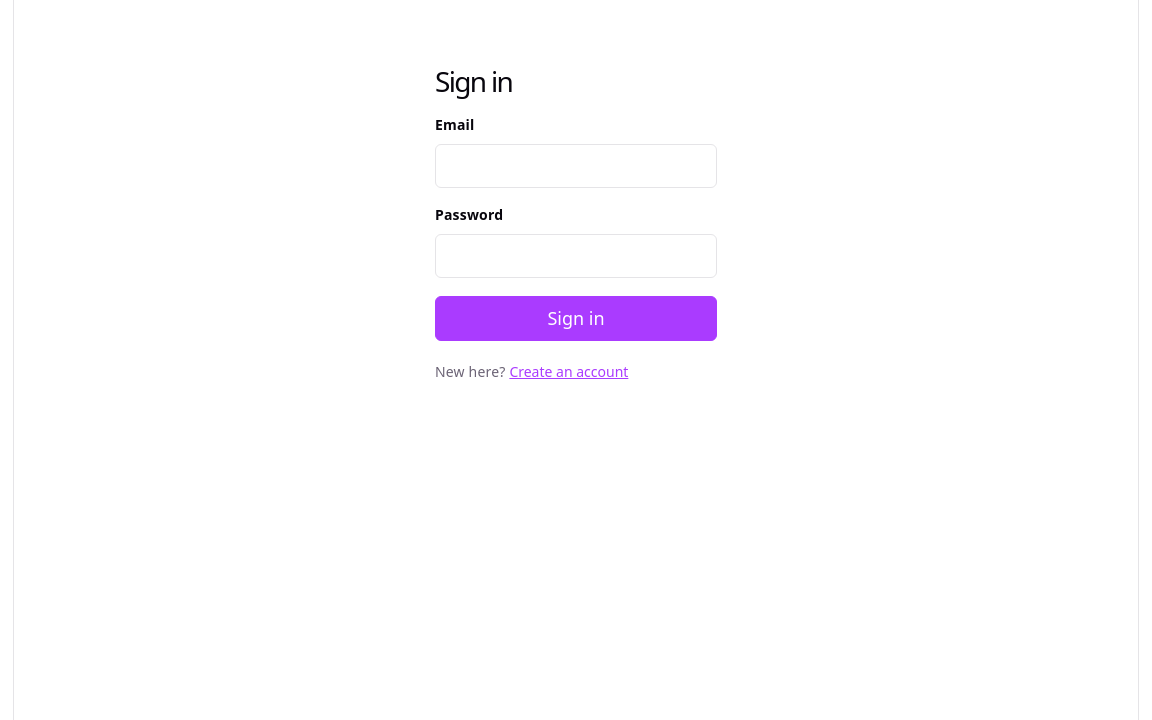
disables the button while signing in
The image size is (1152, 720).
Type "fan@example.com" into the field labelled "Email".
click(576, 166); type("fan@example.com")  # box x1=435 y1=144 x2=717 y2=188
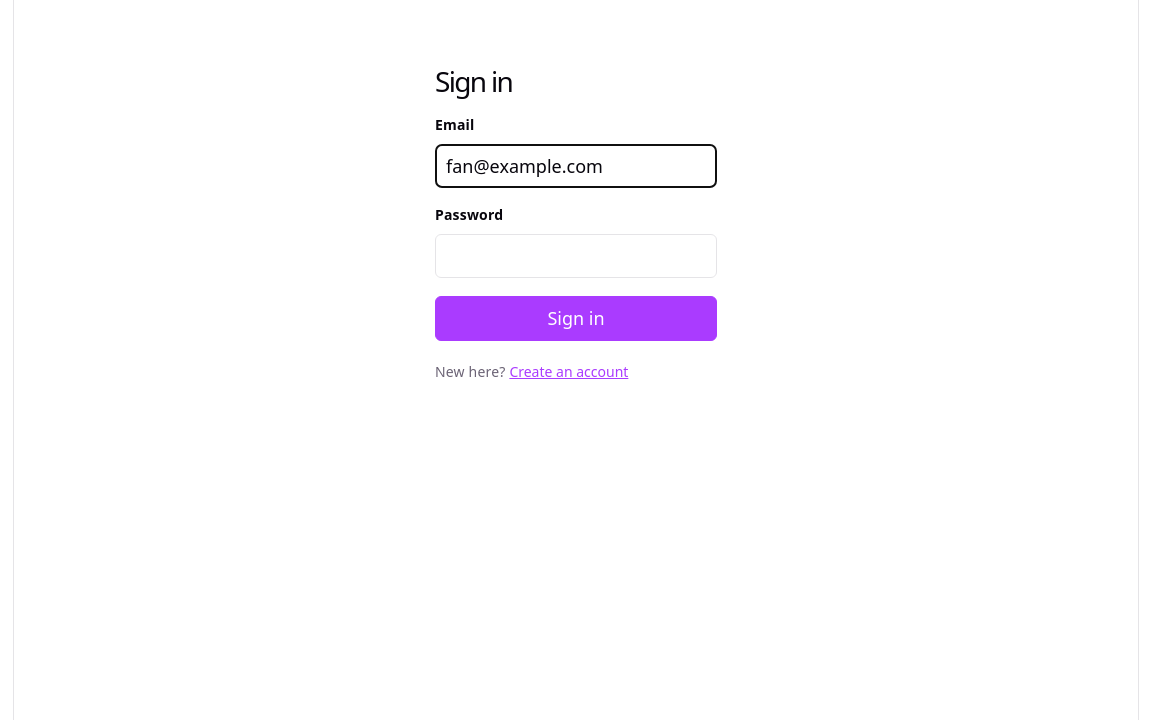
Type "secret" into the password field labelled "Password".
click(576, 256); type("secret")  # box x1=435 y1=234 x2=717 y2=278
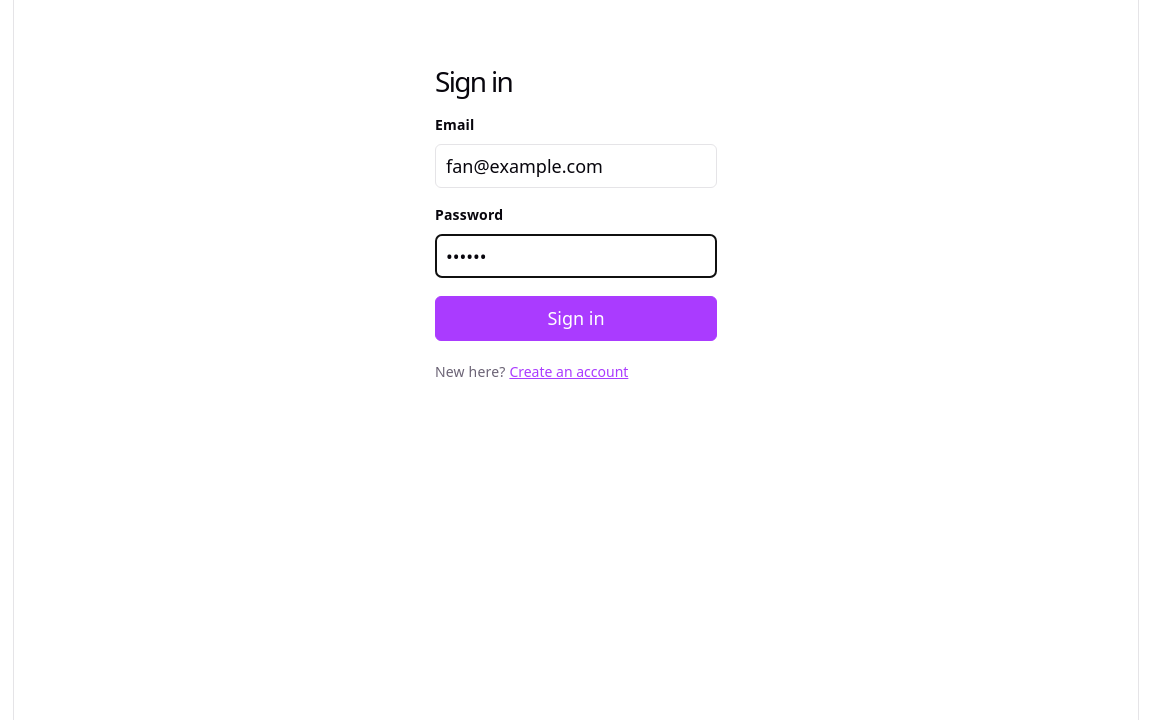
Click the button "Sign in".
click(576, 319)  # box x1=435 y1=296 x2=717 y2=341
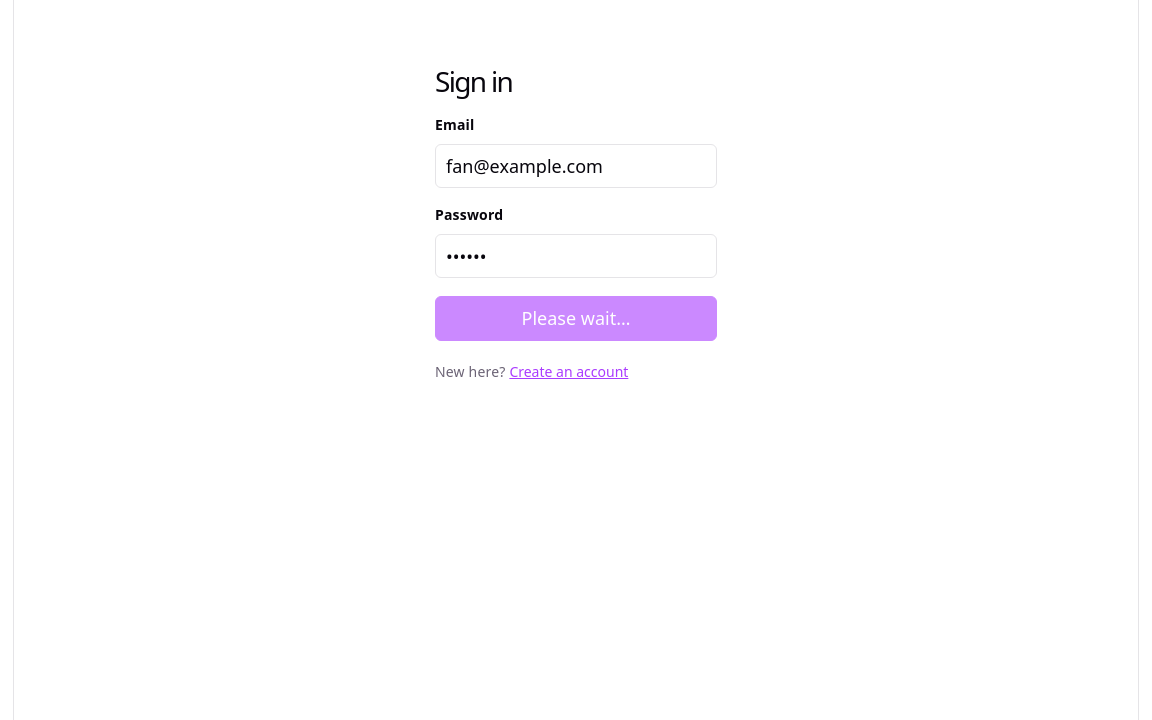
Now the button "Please wait…" is disabled, box x1=435 y1=296 x2=717 y2=341
